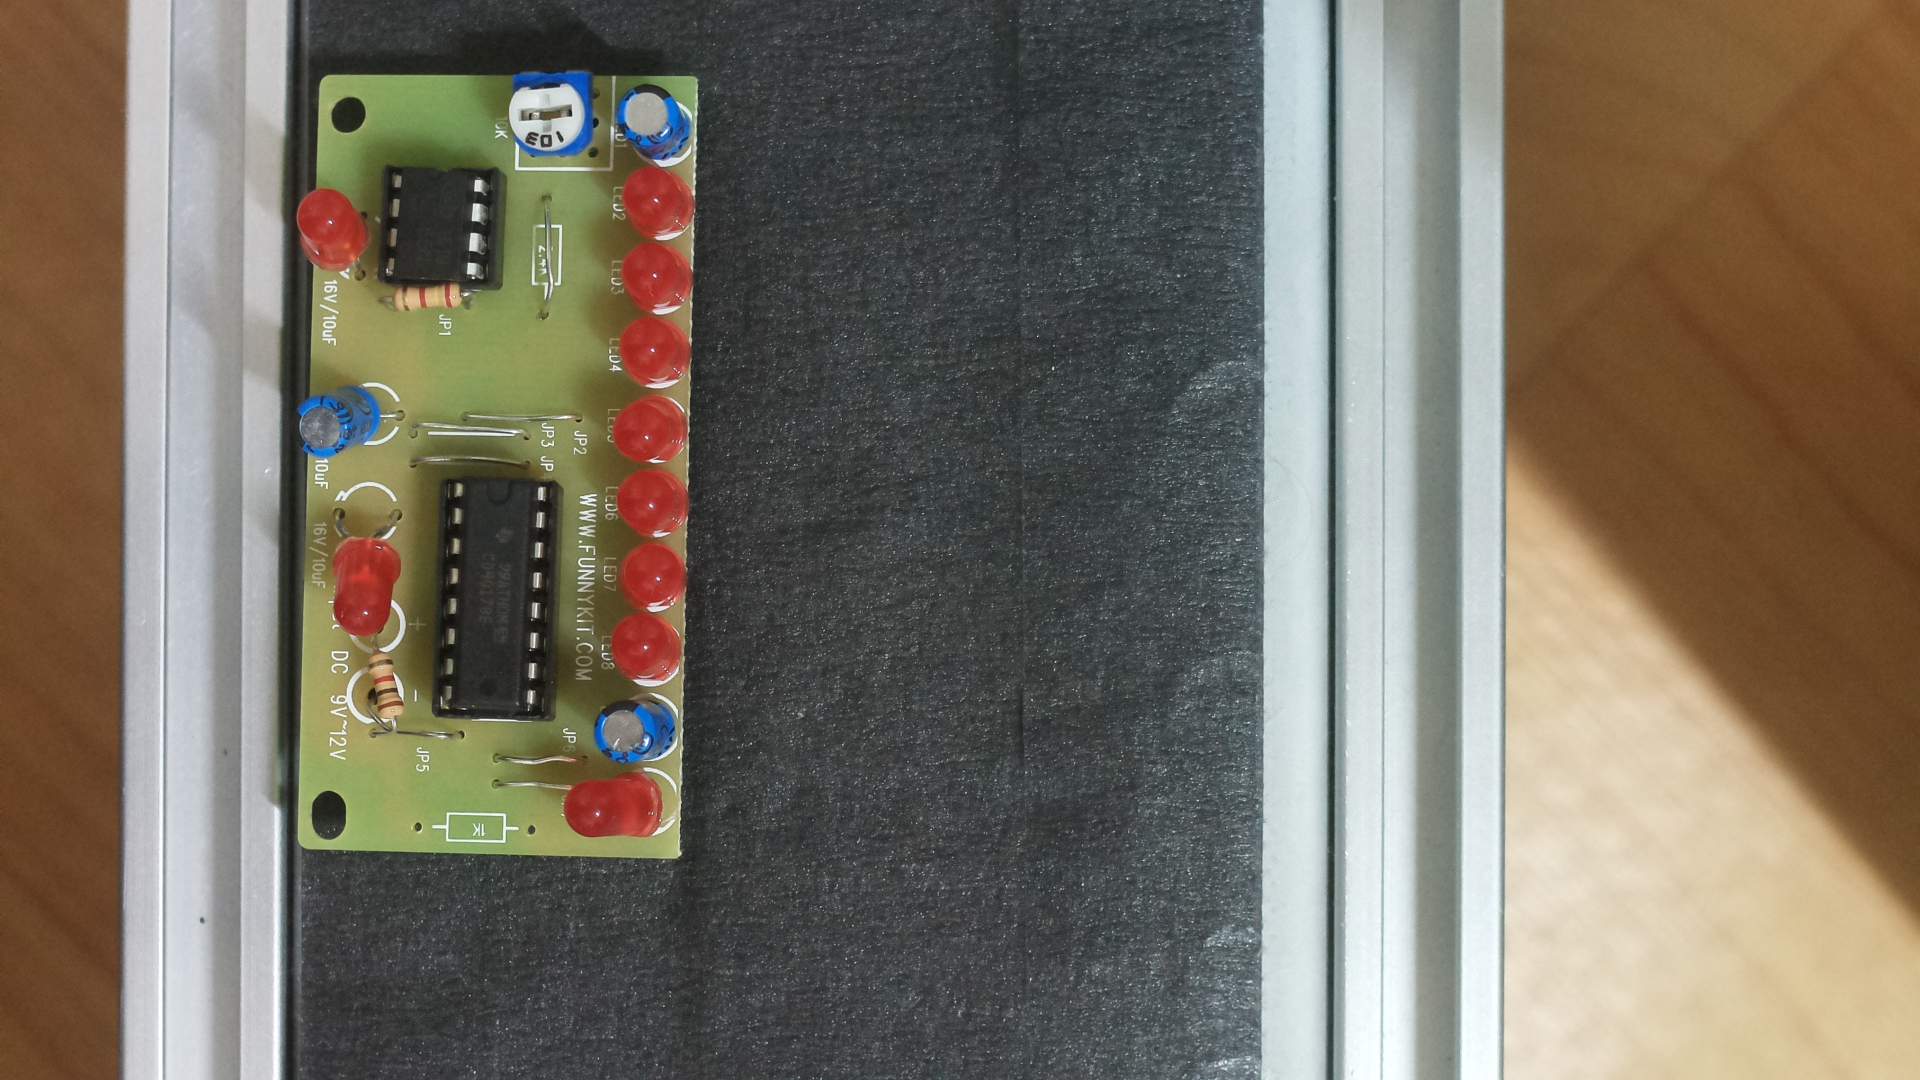B_Misordered: (282, 61, 713, 877)
